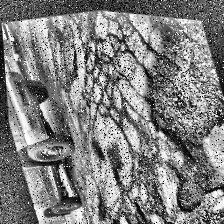pothole: (116, 10, 224, 218), (122, 190, 154, 224), (104, 212, 124, 224)
